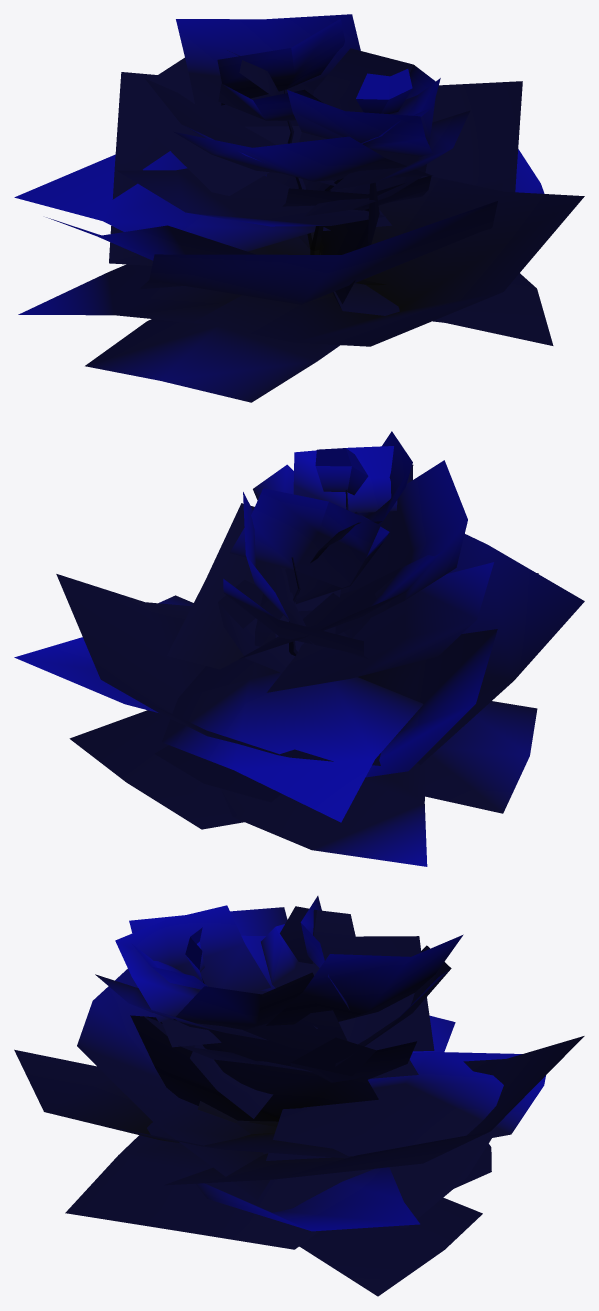
The model's file is SM_Foliage_ShrubB_05.fbx.
3 views of the same model, one above another, from view 1: azimuth 30°, elevation 25°; view 2: azimuth 150°, elevation 25°; view 3: azimuth 270°, elevation 25° (orthographic). The views are drawn at different scales.
Visible parts, largest first — view 1: SM_Foliage_ShrubB_05; view 2: SM_Foliage_ShrubB_05; view 3: SM_Foliage_ShrubB_05.
Part boxes in pixels (x1=…): SM_Foliage_ShrubB_05: x1=14, y1=14, x2=584, y2=402; SM_Foliage_ShrubB_05: x1=14, y1=431, x2=584, y2=866; SM_Foliage_ShrubB_05: x1=14, y1=896, x2=584, y2=1296.
Size of the model in its own units: 371 by 406 by 225.
